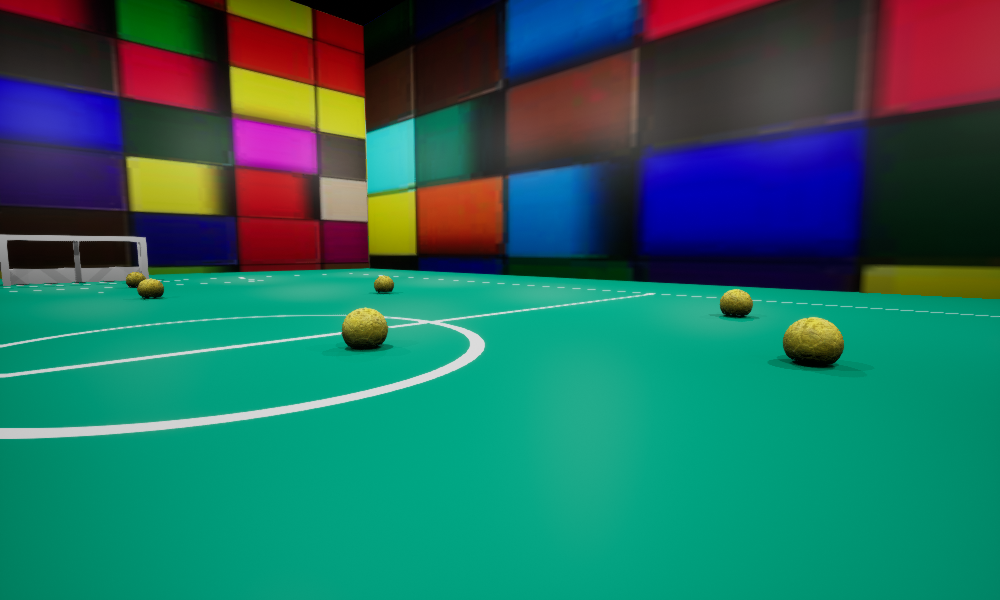b: (783, 317, 843, 366), (342, 307, 387, 349), (720, 289, 752, 316), (137, 278, 163, 298), (374, 275, 393, 292), (126, 272, 145, 287)
g: (0, 234, 148, 285)
